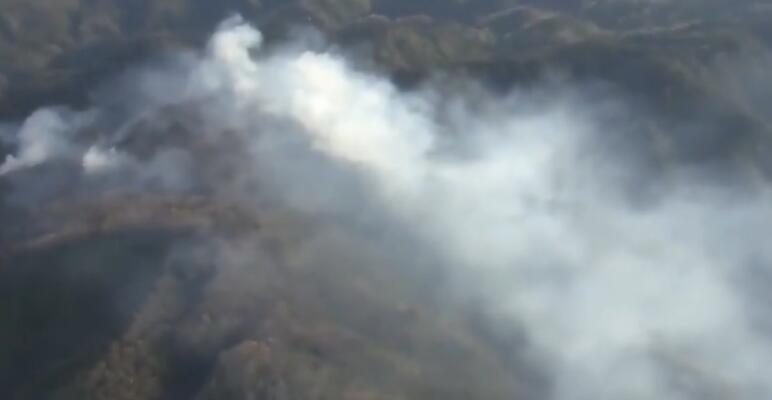yanwu: (5, 13, 772, 392)
